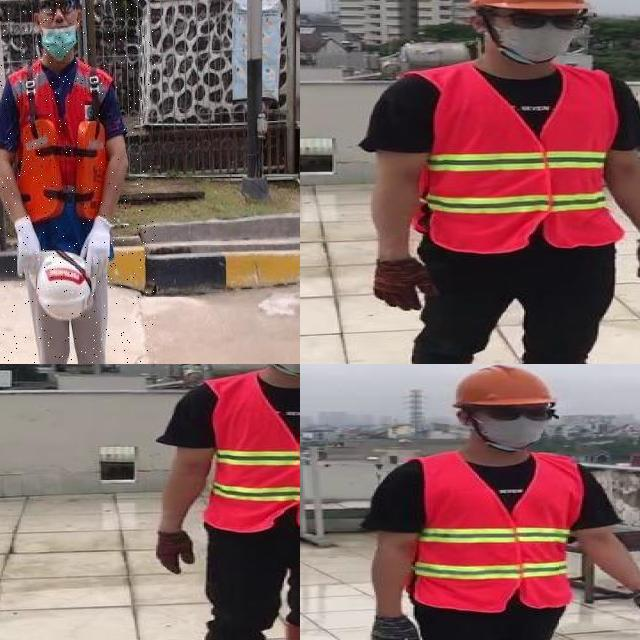face_mask: (489, 8, 584, 64), (475, 404, 552, 447)
glasses: (499, 6, 588, 34), (478, 402, 560, 427)
hand_glove: (370, 259, 440, 311), (152, 531, 197, 574), (368, 615, 425, 640), (628, 589, 640, 638)
head_helmet: (442, 364, 556, 409), (28, 251, 97, 322), (460, 0, 595, 13)
person: (351, 0, 640, 364), (359, 364, 640, 640), (0, 0, 156, 364), (144, 364, 300, 640)
vest: (421, 69, 620, 249), (412, 452, 582, 612), (10, 59, 115, 263), (205, 375, 300, 533)
